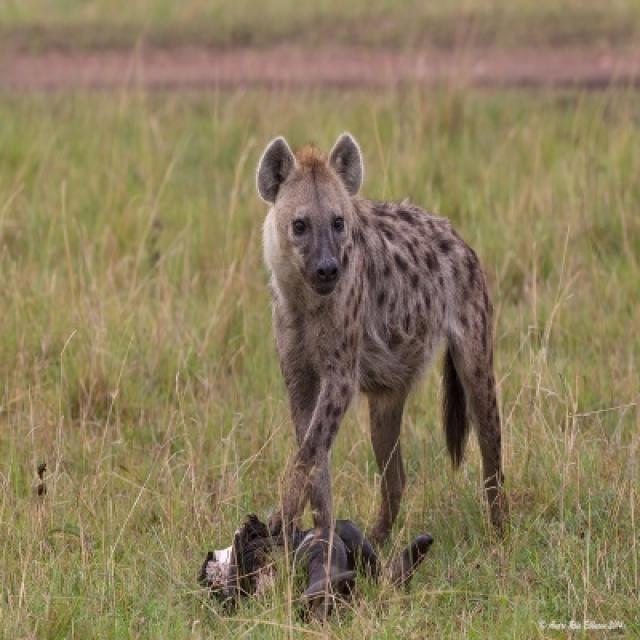hyena: (256, 134, 510, 605)
